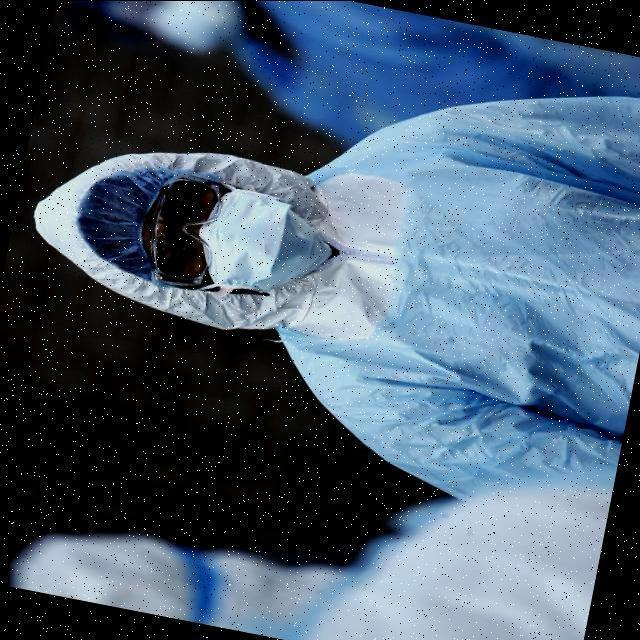gloves: (88, 175, 146, 274)
mask: (224, 198, 296, 288)
